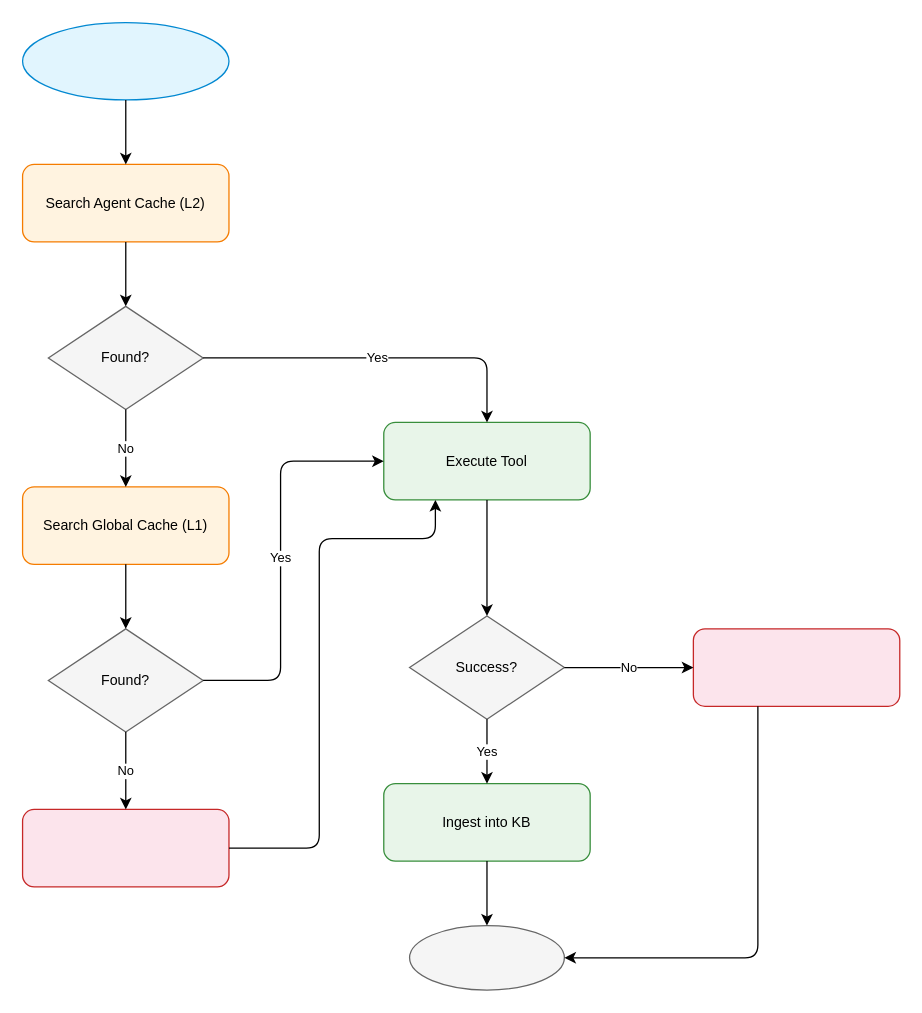
This 922x1013 diagram has some shape labels left out. Each missing label, with the centre of its shape:
"Agent needs tool" goes at [125,60].
"Discover via find_tools" goes at [125,847].
"Done" goes at [486,957].
"Invalidate Cache" goes at [796,667].
